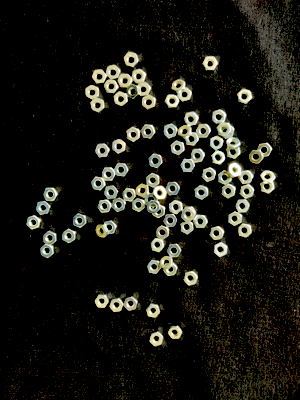nut: (202, 56, 218, 72), (124, 52, 139, 68), (238, 89, 253, 105), (92, 70, 108, 85), (90, 98, 105, 114), (249, 150, 265, 165), (202, 167, 217, 183), (194, 185, 209, 201), (183, 272, 199, 287), (94, 294, 110, 309), (106, 65, 121, 80), (132, 69, 147, 84), (95, 144, 110, 159), (141, 124, 156, 139), (184, 112, 199, 127), (212, 110, 227, 125), (217, 122, 232, 137), (218, 170, 233, 185), (238, 223, 253, 238), (43, 231, 58, 246), (146, 200, 161, 215), (181, 208, 196, 223), (210, 226, 225, 241), (150, 238, 165, 253), (147, 260, 162, 275), (164, 94, 180, 108), (190, 149, 206, 163), (149, 153, 163, 169), (238, 171, 254, 185), (260, 170, 276, 184), (239, 185, 255, 199), (165, 182, 181, 196), (103, 186, 119, 200), (150, 331, 164, 347), (118, 74, 133, 88), (85, 85, 99, 100), (104, 80, 119, 94), (114, 92, 128, 107), (127, 85, 141, 100), (142, 95, 156, 110), (172, 79, 186, 94), (112, 139, 126, 154), (164, 124, 178, 139), (196, 124, 211, 138), (178, 125, 193, 139), (211, 151, 226, 165), (258, 143, 273, 157), (181, 159, 196, 173), (101, 168, 116, 182), (91, 177, 106, 191), (228, 163, 242, 178), (222, 184, 236, 199), (228, 212, 242, 227), (146, 173, 160, 188), (36, 202, 51, 216), (73, 214, 87, 229), (62, 229, 76, 244), (97, 200, 112, 214), (111, 198, 126, 212), (122, 188, 137, 202), (136, 184, 150, 199), (132, 198, 146, 213), (163, 214, 178, 228), (193, 215, 208, 229), (214, 243, 228, 258), (156, 225, 170, 240), (167, 244, 182, 258), (110, 298, 124, 313), (124, 296, 138, 311), (146, 304, 160, 319), (127, 127, 140, 143), (178, 88, 192, 102), (185, 132, 199, 146), (210, 136, 224, 150), (171, 141, 185, 155), (41, 244, 55, 258), (95, 224, 109, 238), (153, 186, 167, 200), (152, 205, 166, 219), (169, 201, 183, 215), (164, 263, 178, 277), (226, 137, 241, 150), (114, 164, 129, 177), (235, 200, 250, 213), (43, 188, 58, 201), (26, 216, 41, 229), (145, 193, 158, 208), (160, 256, 173, 271), (168, 326, 183, 339), (221, 126, 235, 139), (104, 221, 117, 235), (181, 221, 194, 235), (260, 182, 275, 194), (138, 83, 151, 96), (226, 148, 241, 159), (184, 207, 197, 217)
